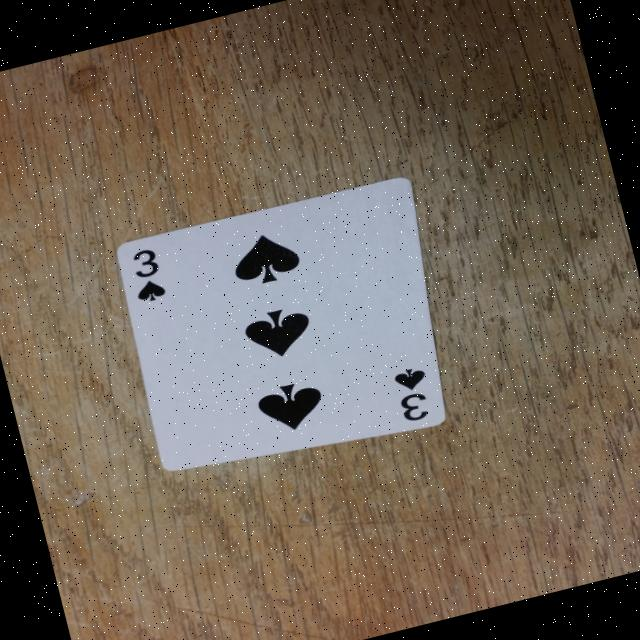3s: (377, 354, 443, 432), (121, 237, 176, 307)
